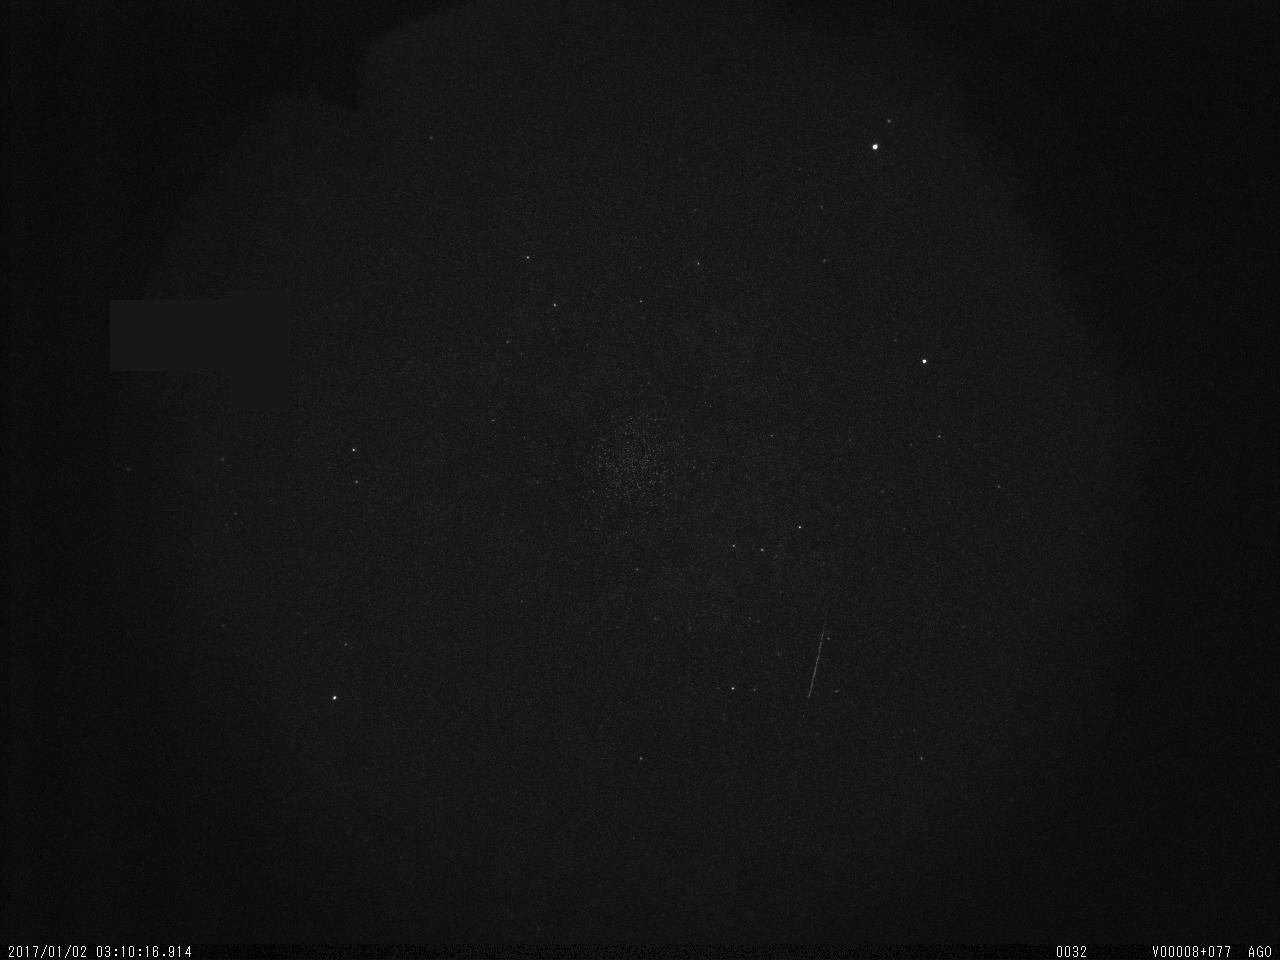meteor: (800, 614, 836, 706)
